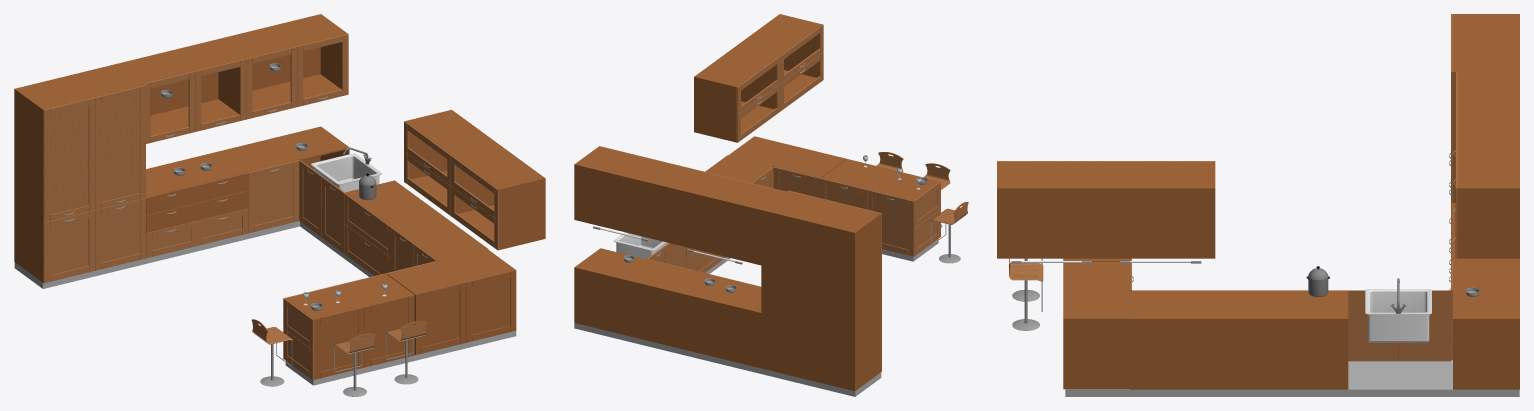
The model's file is kitchenfbx.FBX.fbx.
3 views of the same model, side by side, from view 1: azimuth 30°, elevation 25°; view 2: azimuth 150°, elevation 25°; view 3: azimuth 270°, elevation 25° (orthographic). The views are drawn at different scales.
Parts seen in each view (by area): view 1: polySurface1; view 2: polySurface1; view 3: polySurface1.
Part boxes in pixels (<box>): polySurface1: <box>14,14,545,396</box>; polySurface1: <box>574,14,968,396</box>; polySurface1: <box>997,14,1519,396</box>.
Size of the model in its own units: 408 by 228 by 517.
